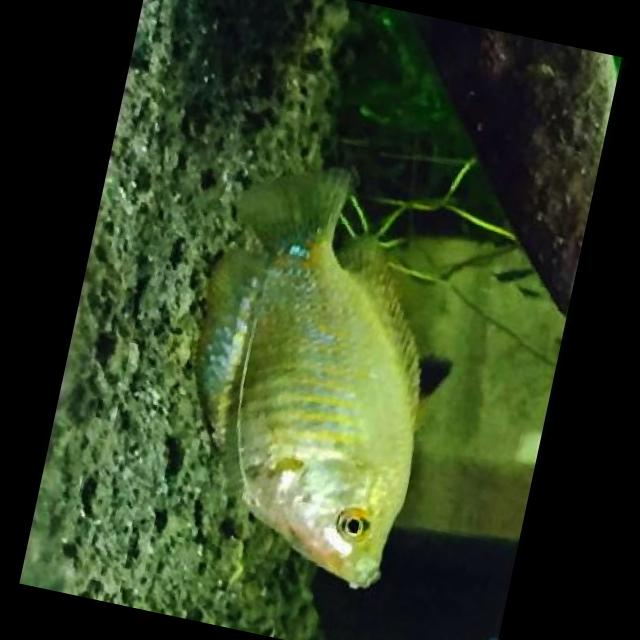Gourami: (146, 150, 476, 597)
